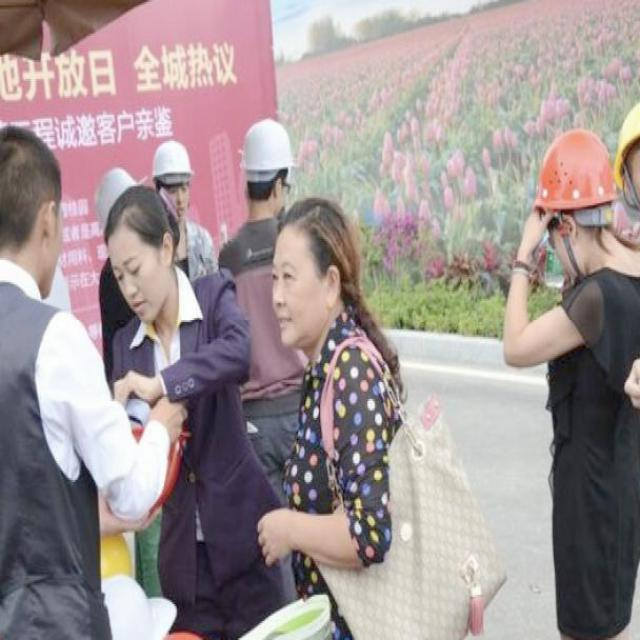helmet: (527, 110, 619, 277), (132, 126, 206, 245), (239, 88, 290, 237)
